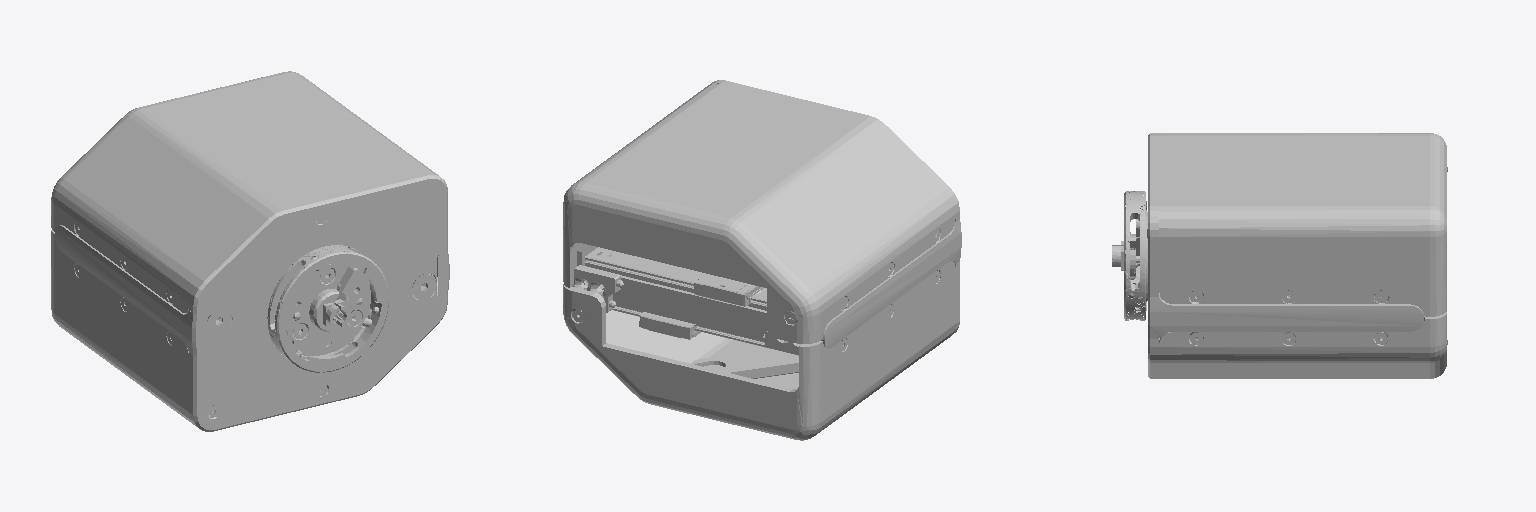
Rendered from gripper_link.obj.
The picture shows the model from 3 angles: view 1: azimuth 30°, elevation 25°; view 2: azimuth 150°, elevation 25°; view 3: azimuth 270°, elevation 25°; orthographic projection.
Visible parts, largest first — view 1: gripper_link; view 2: gripper_link; view 3: gripper_link.
Boxes of the visible parts, <box> form: gripper_link: <box>51,71,449,431</box>; gripper_link: <box>563,80,961,440</box>; gripper_link: <box>1112,133,1447,378</box>.
Size of the model in its own units: 0.1033 by 0.078 by 0.1163.